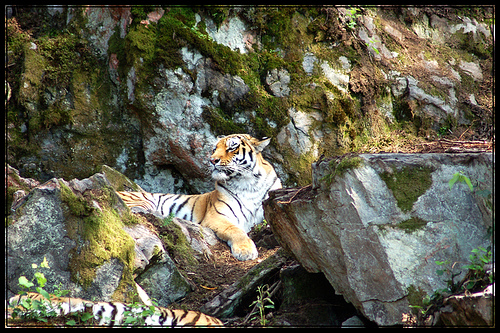Tigre: (121, 133, 311, 243)
